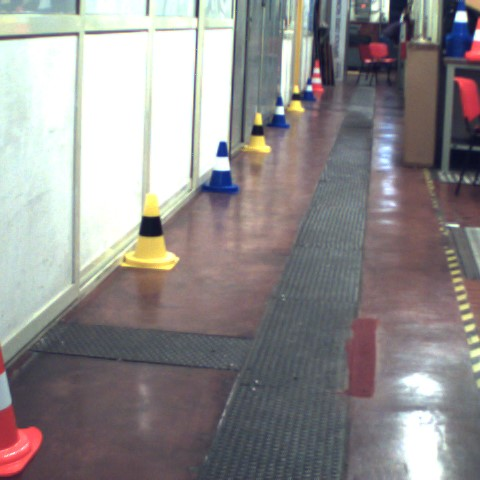cone: (202, 141, 237, 194), (269, 97, 288, 128), (304, 80, 315, 101)
